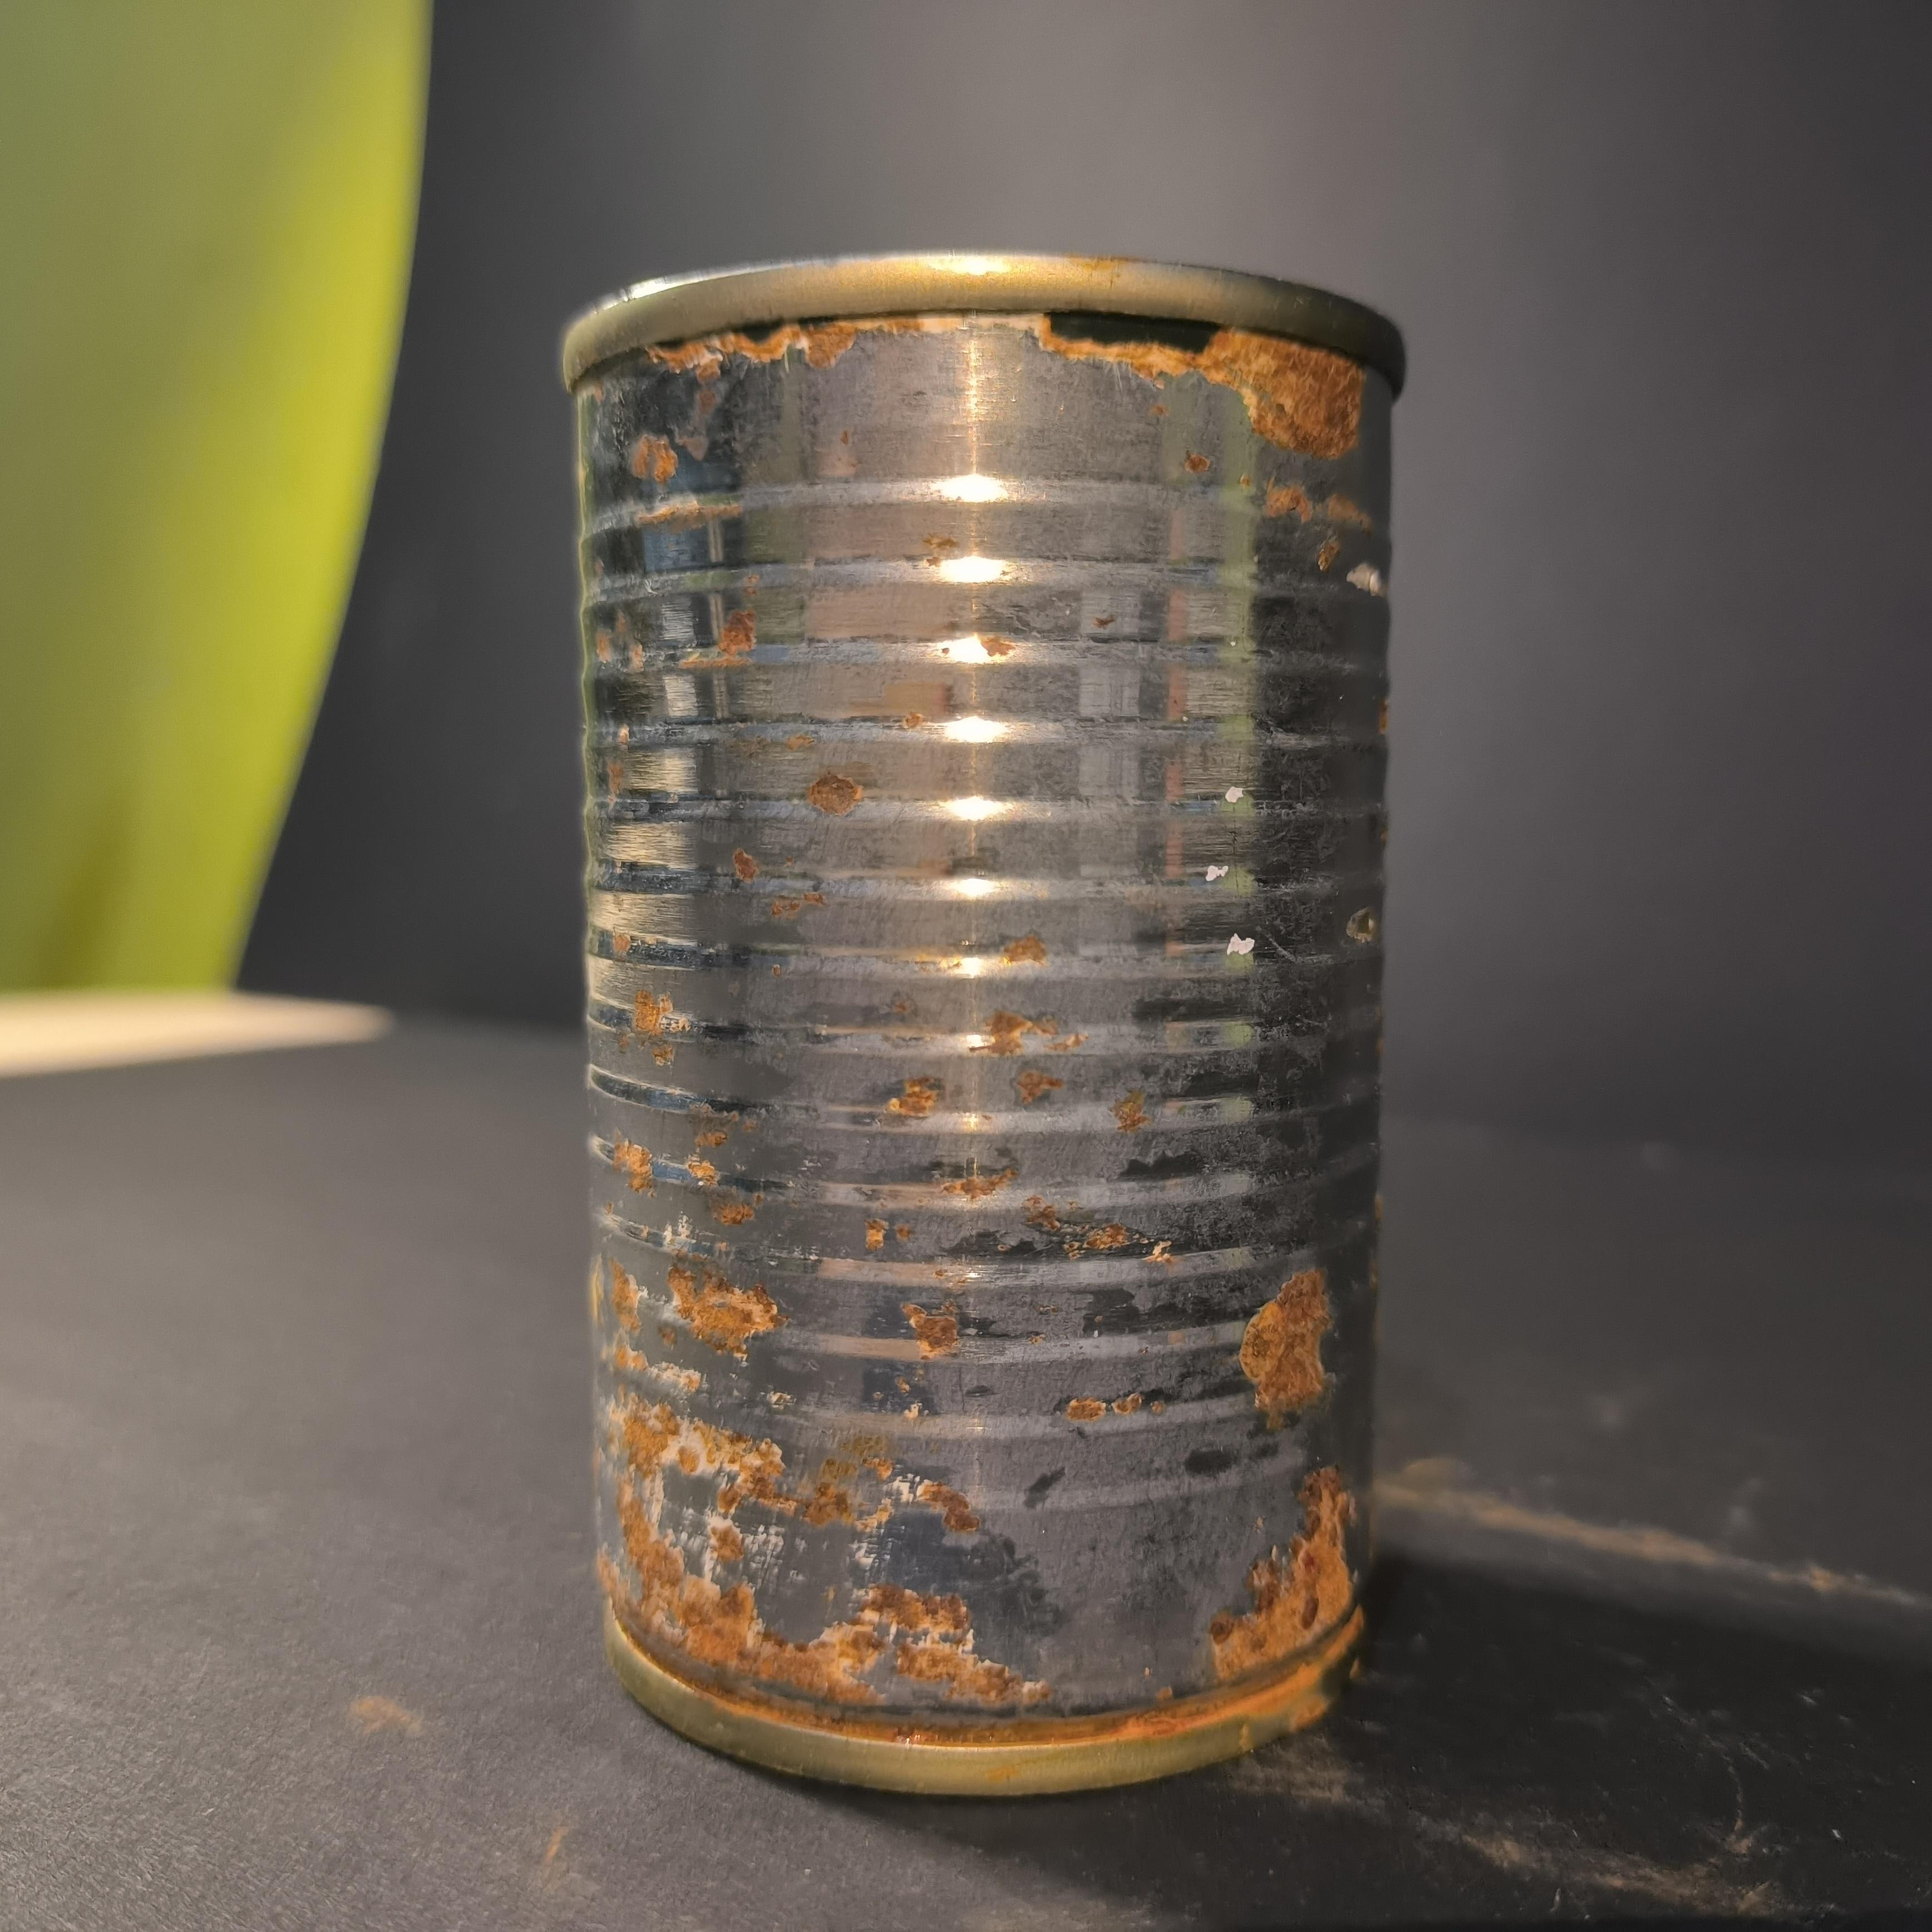Rusted: (538, 209, 1403, 1806)
